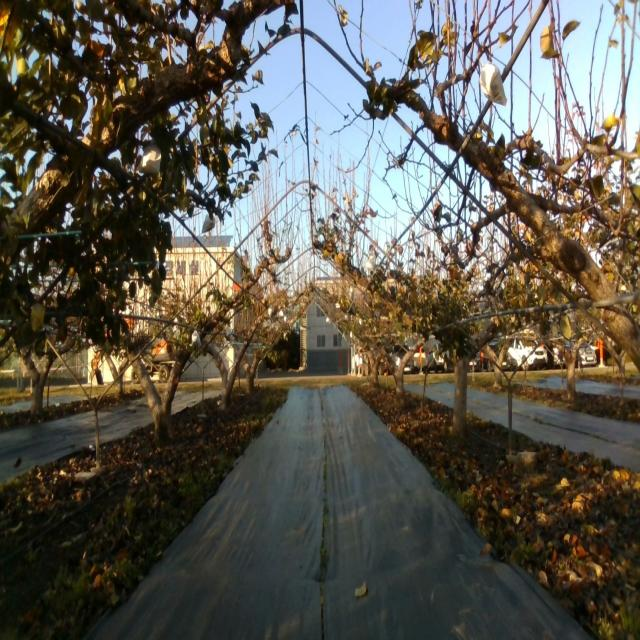pearbags: (479, 62, 507, 108), (136, 140, 162, 176), (202, 214, 216, 234)
